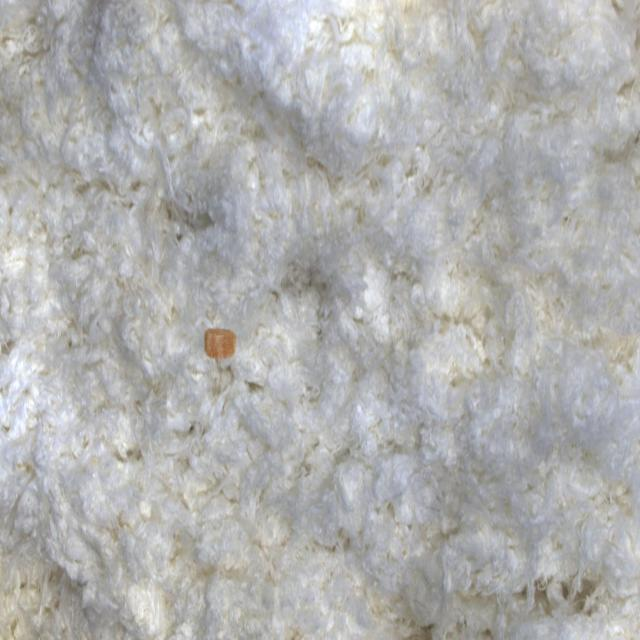dust: (180, 297, 257, 381)
